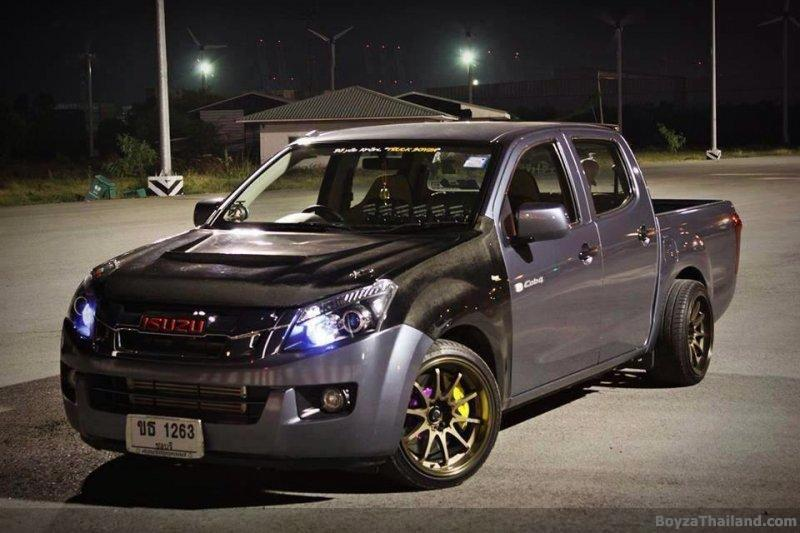pickup: (58, 118, 745, 493)
